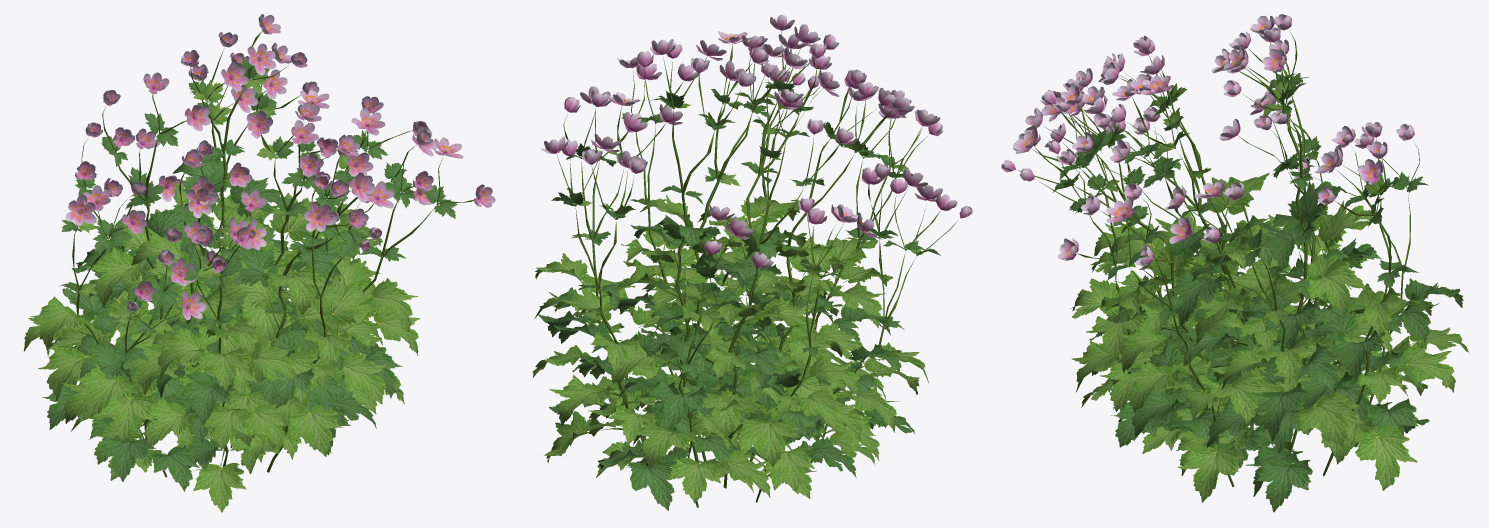
File: anemone-hybrida.gltf
3 renders of one model, left to right at view 1: azimuth 30°, elevation 25°; view 2: azimuth 150°, elevation 25°; view 3: azimuth 270°, elevation 25°, orthographic. The views are drawn at different scales.
Visible parts, largest first — view 1: anemone-hybrida; view 2: anemone-hybrida; view 3: anemone-hybrida.
Part boxes in pixels (<box>): anemone-hybrida: <box>24,14,495,512</box>; anemone-hybrida: <box>532,14,972,510</box>; anemone-hybrida: <box>1001,14,1469,512</box>.
Bounding box in the file's own units: 0.5999 × 0.6764 × 0.6645.
6 materials, 6 textured.
